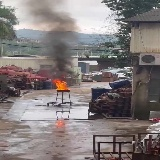fire: (52, 79, 69, 90)
